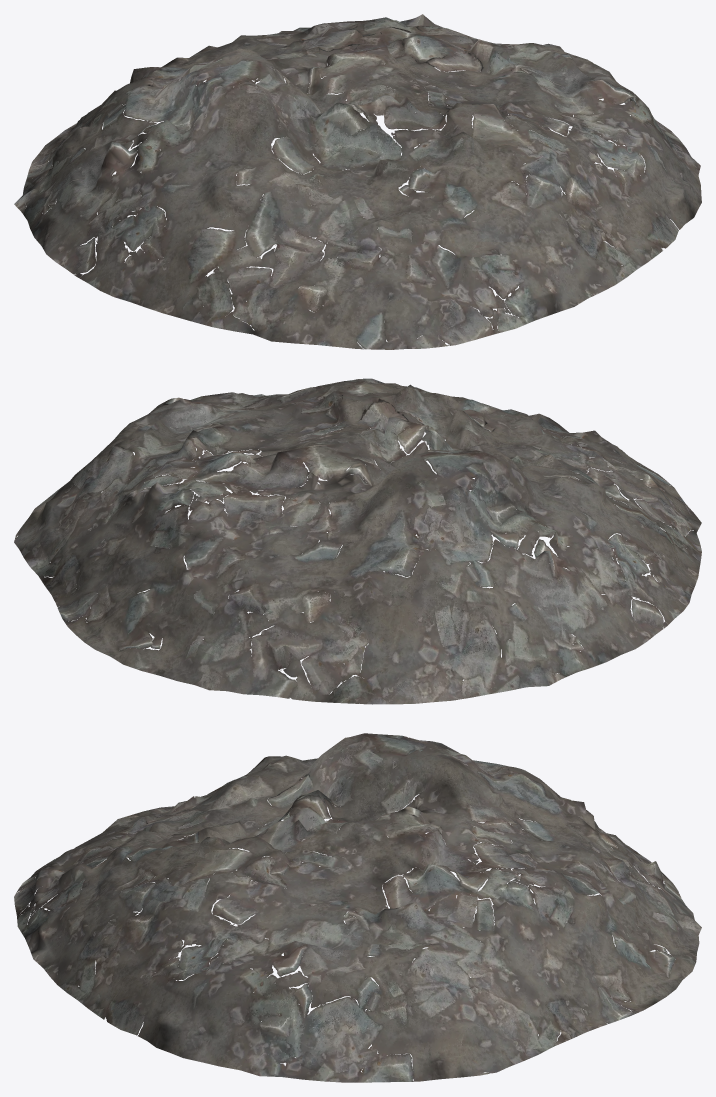
The picture shows the model from 3 angles, top to bottom: view 1: azimuth 30°, elevation 25°; view 2: azimuth 150°, elevation 25°; view 3: azimuth 270°, elevation 25°; orthographic projection.
Visible parts, largest first — view 1: SM_Dig_Spot_Covered_LOD0; view 2: SM_Dig_Spot_Covered_LOD0; view 3: SM_Dig_Spot_Covered_LOD0.
Boxes of the visible parts, bbox=[...] form: SM_Dig_Spot_Covered_LOD0: bbox=[14, 14, 701, 349]; SM_Dig_Spot_Covered_LOD0: bbox=[14, 378, 701, 704]; SM_Dig_Spot_Covered_LOD0: bbox=[14, 733, 701, 1082].
Bounding box in the file's own units: 2.4 × 0.5562 × 2.4.
1 material, 1 textured.
